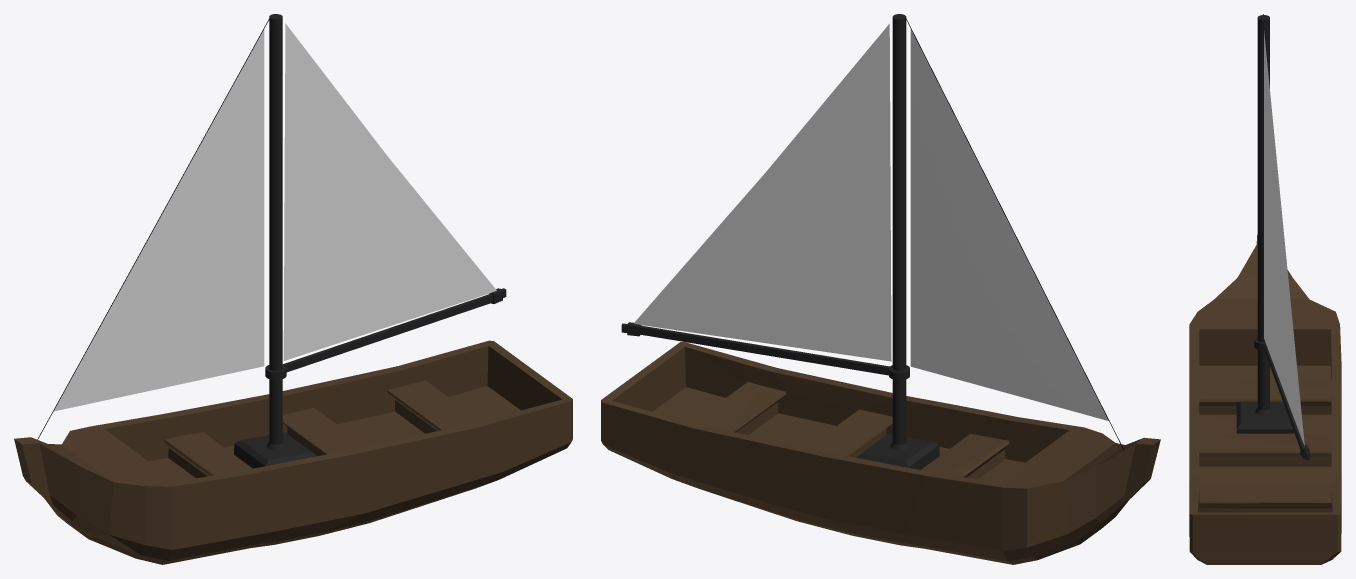
Rendered from wip_boat_optimized_with_2sail_8.fbx.
3 views of the same model, side by side, from view 1: azimuth 30°, elevation 25°; view 2: azimuth 150°, elevation 25°; view 3: azimuth 270°, elevation 25° (orthographic). The views are drawn at different scales.
Parts seen in each view (by area): view 1: Boat, Plane.001, Plane, Mast; view 2: Boat, Plane, Plane.001, Mast; view 3: Boat, Plane, Mast.
Boxes of the visible parts, x1,y1,x2,y2 form: Boat: (14, 340, 572, 564); Plane.001: (53, 29, 264, 411); Plane: (283, 23, 496, 360); Mast: (265, 14, 506, 450); Boat: (601, 342, 1160, 564); Plane: (634, 24, 891, 361); Plane.001: (910, 29, 1108, 420); Mast: (621, 14, 909, 450); Boat: (1189, 234, 1341, 564); Plane: (1264, 30, 1304, 446); Mast: (1254, 15, 1309, 459).
Size of the model in its own units: 1741 by 1614 by 485.
